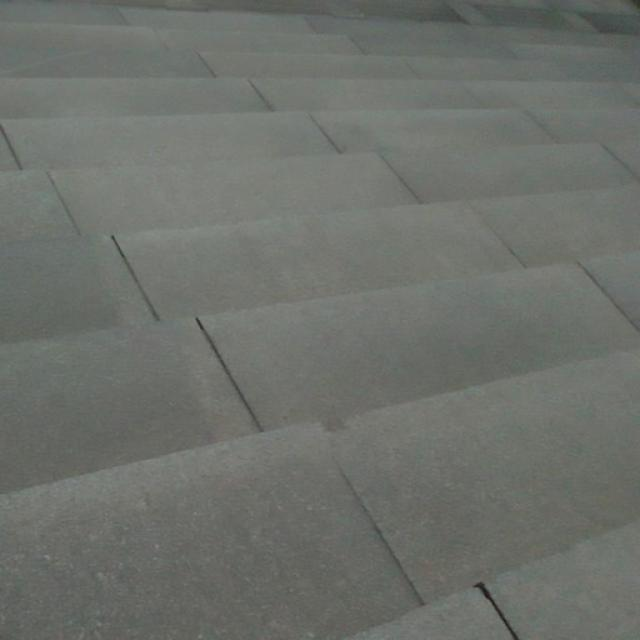stair: (2, 1, 640, 618)
